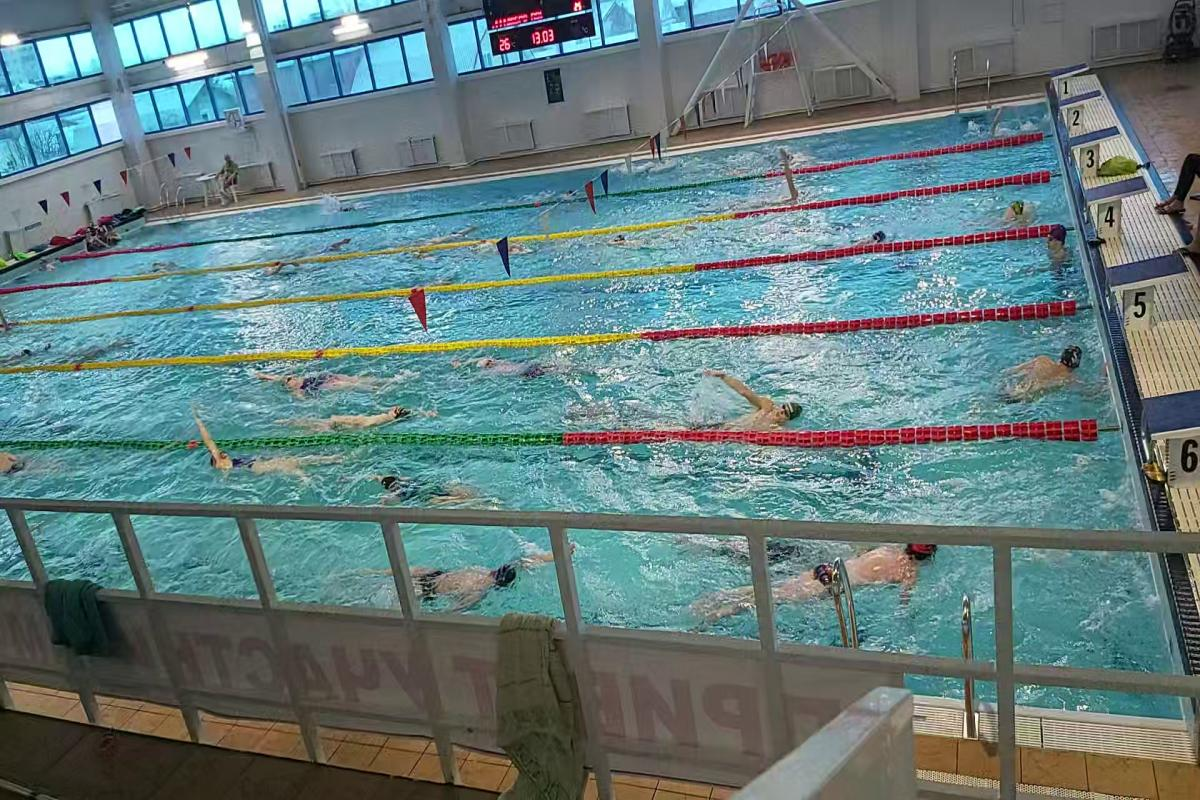swimmer: (703, 543, 943, 618), (374, 540, 549, 611), (184, 424, 348, 493), (991, 330, 1091, 410), (248, 356, 407, 398), (703, 374, 811, 435), (382, 462, 491, 508), (457, 339, 570, 383), (297, 401, 433, 432), (1044, 220, 1074, 270), (998, 195, 1043, 226), (261, 261, 313, 284), (611, 231, 671, 249), (840, 232, 899, 248)
